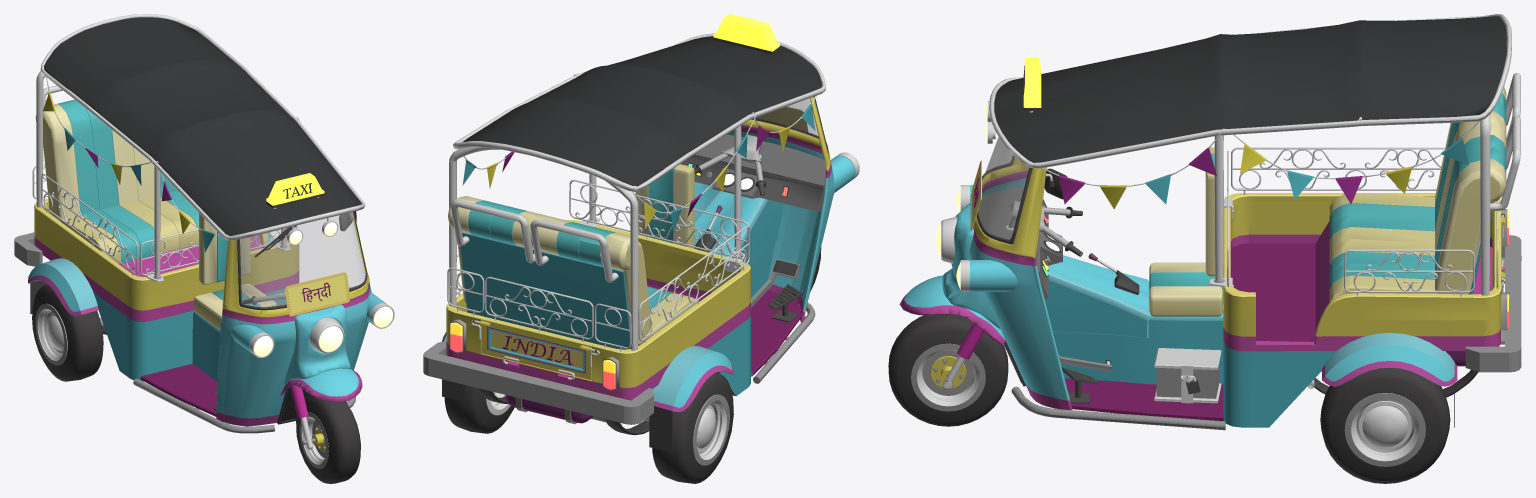
The model's file is tuktuk.glb.
3 views of the same model, side by side, from view 1: azimuth 30°, elevation 25°; view 2: azimuth 150°, elevation 25°; view 3: azimuth 270°, elevation 25° (orthographic). The views are drawn at different scales.
Parts seen in each view (by area): view 1: tuktuk; view 2: tuktuk; view 3: tuktuk.
Boxes of the visible parts, x1,y1,x2,y2 form: tuktuk: (14,14,394,483); tuktuk: (423,14,859,483); tuktuk: (888,14,1521,483).
Bounding box in the file's own units: 1.33 × 1.74 × 2.6.
